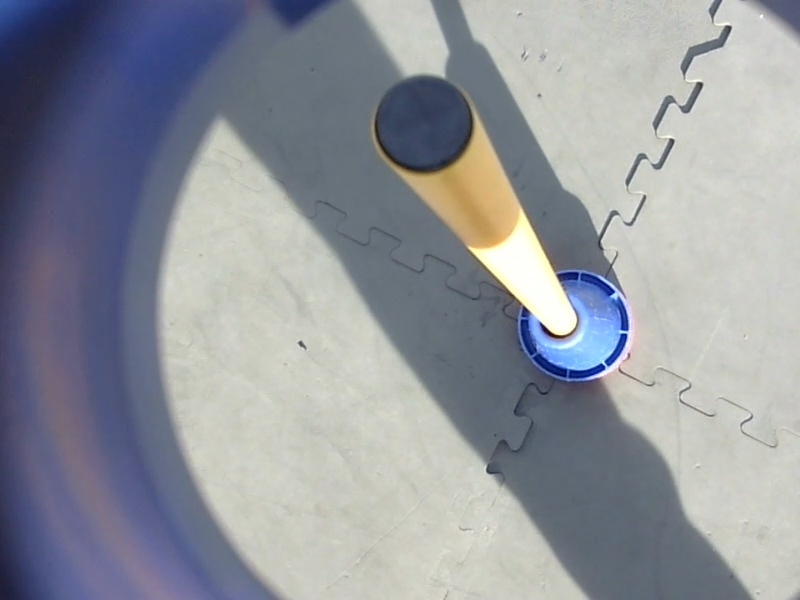tip: (364, 68, 484, 180)
